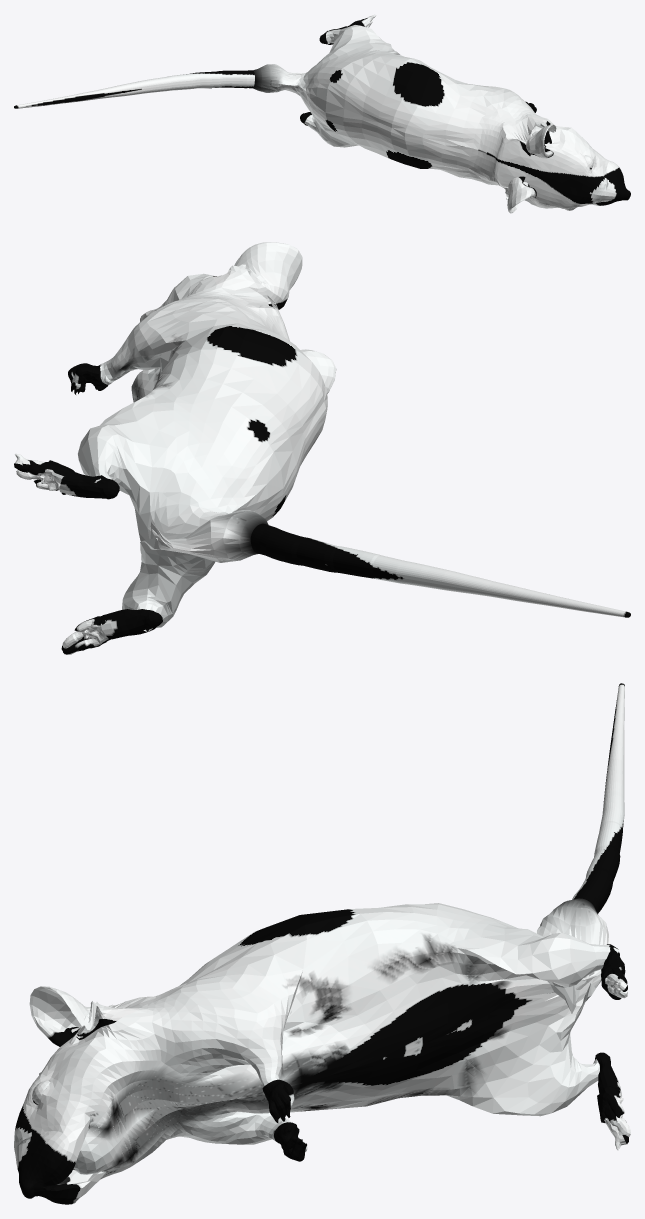
File: mouse_frame1.obj
The picture shows the model from 3 angles, top to bottom: view 1: azimuth 30°, elevation 25°; view 2: azimuth 150°, elevation 25°; view 3: azimuth 270°, elevation 25°; orthographic projection. The views are drawn at different scales.
Bounding box in the file's own units: 117 × 32.22 × 80.21.
1 material, 1 textured.
